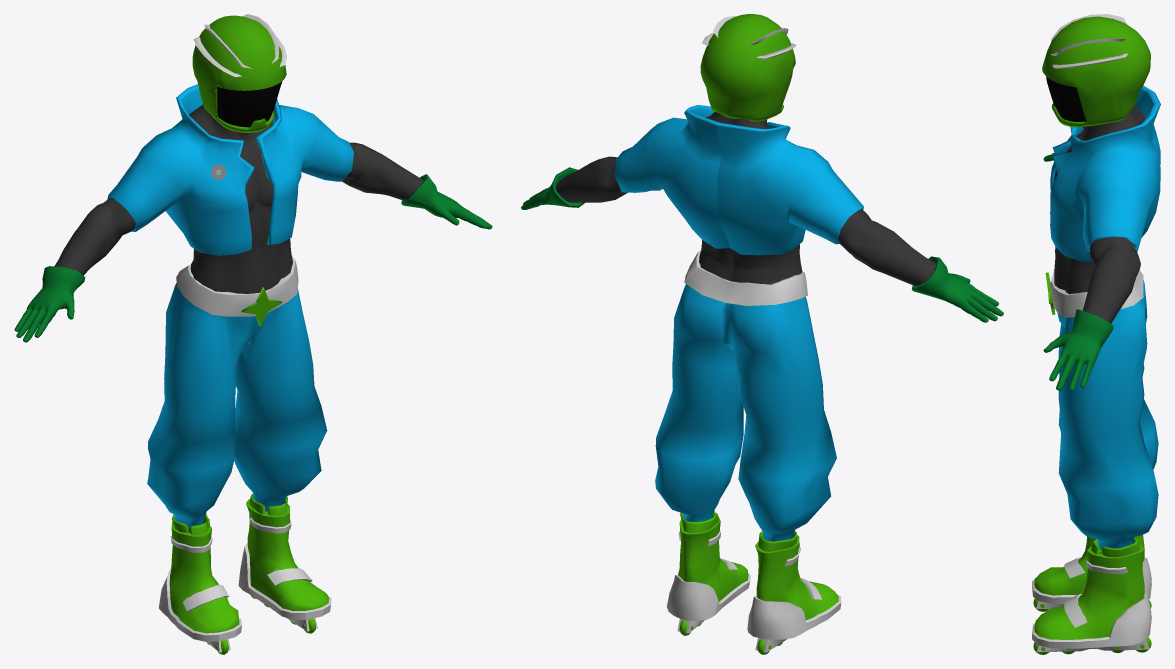
Rendered from AudioNimbusProtagCombined.fbx.
3 renders of one model, left to right at view 1: azimuth 30°, elevation 25°; view 2: azimuth 150°, elevation 25°; view 3: azimuth 270°, elevation 25°, orthographic.
Visible parts, largest first — view 1: CD_Pin3; view 2: CD_Pin3; view 3: CD_Pin3.
Part boxes in pixels (box(x1,y1,x2,y2)): CD_Pin3: box(14, 14, 492, 654); CD_Pin3: box(521, 14, 1003, 654); CD_Pin3: box(1032, 14, 1160, 654).
Bounding box in the file's own units: 1.59 × 1.96 × 0.3732.
